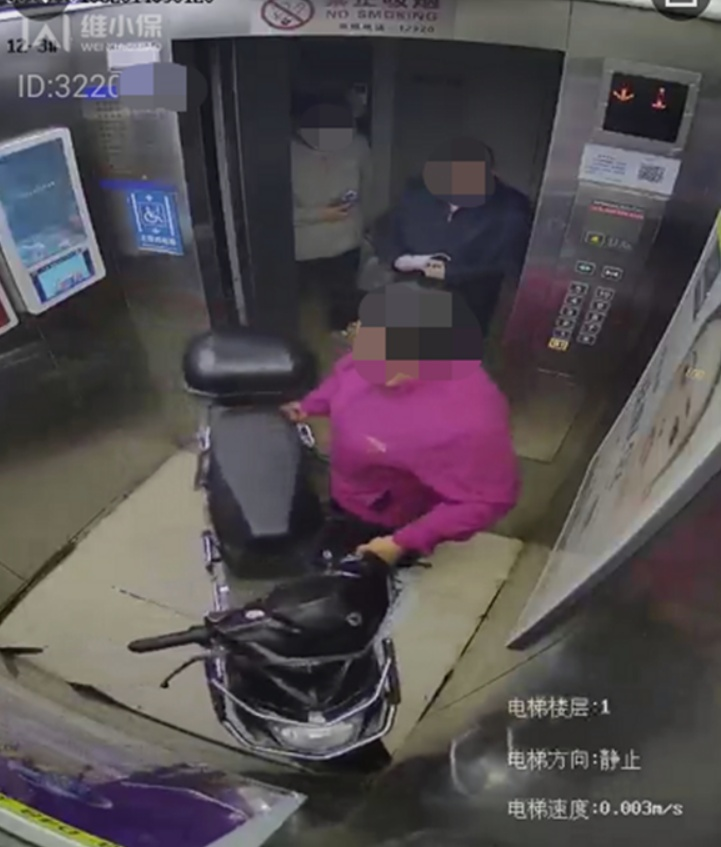ebike: (143, 334, 401, 767)
person: (308, 296, 516, 565)
